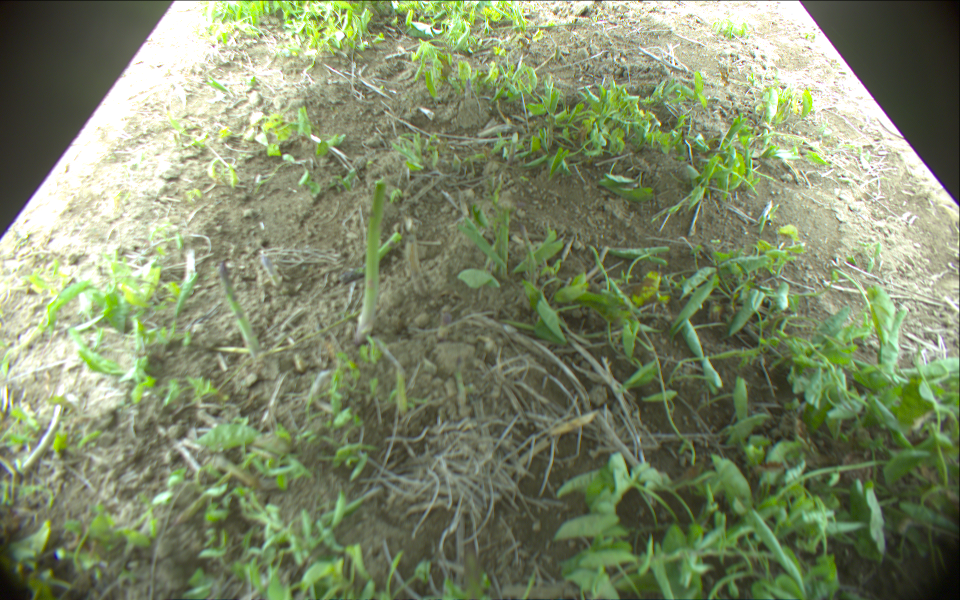aspa: (352, 179, 384, 347), (219, 264, 259, 356)
